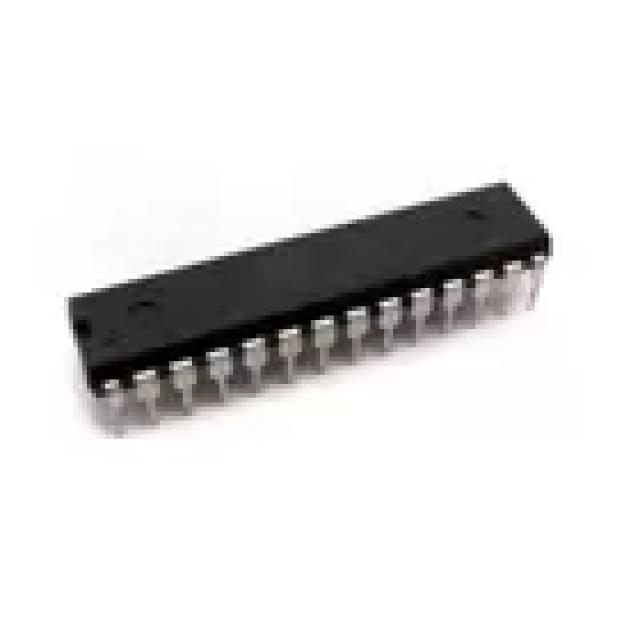atmega: (59, 174, 558, 439)
